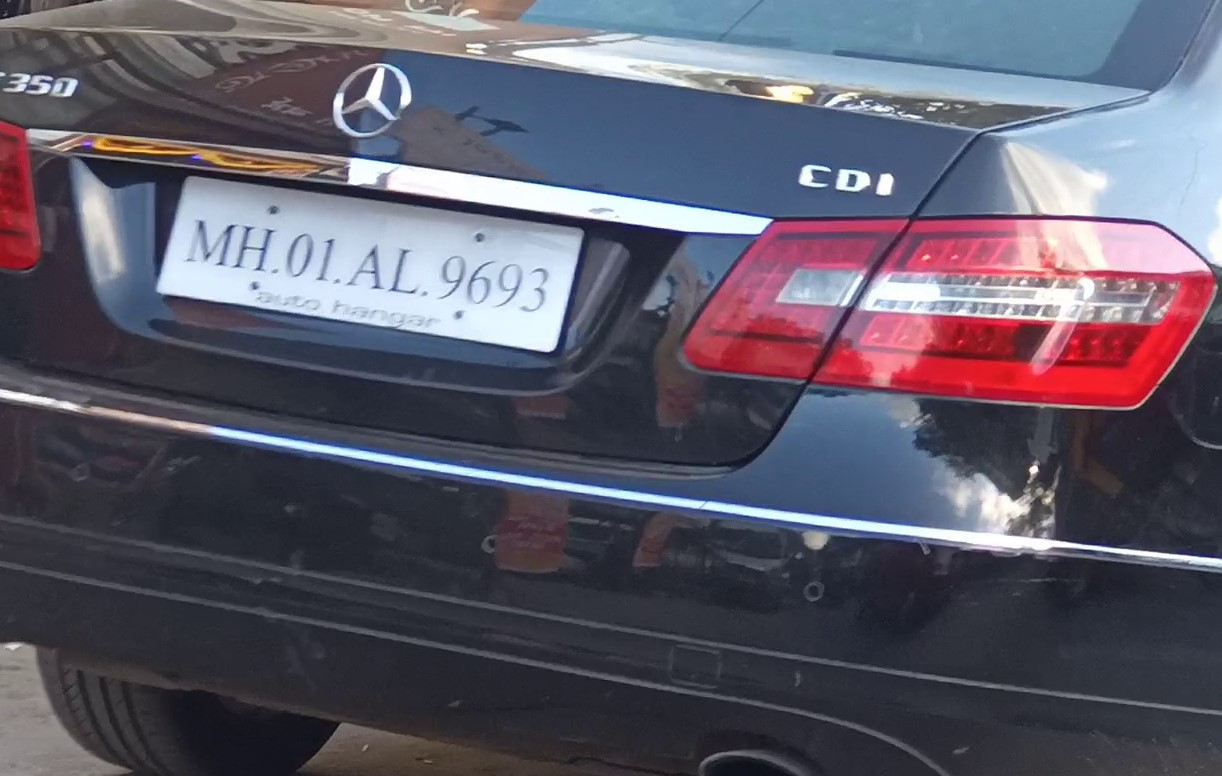MH01AL9693: (158, 168, 586, 353)
